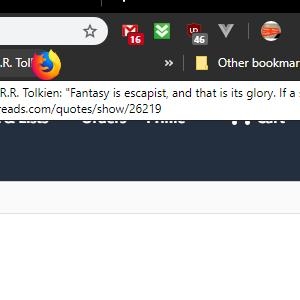firefox: (31, 48, 62, 80)
